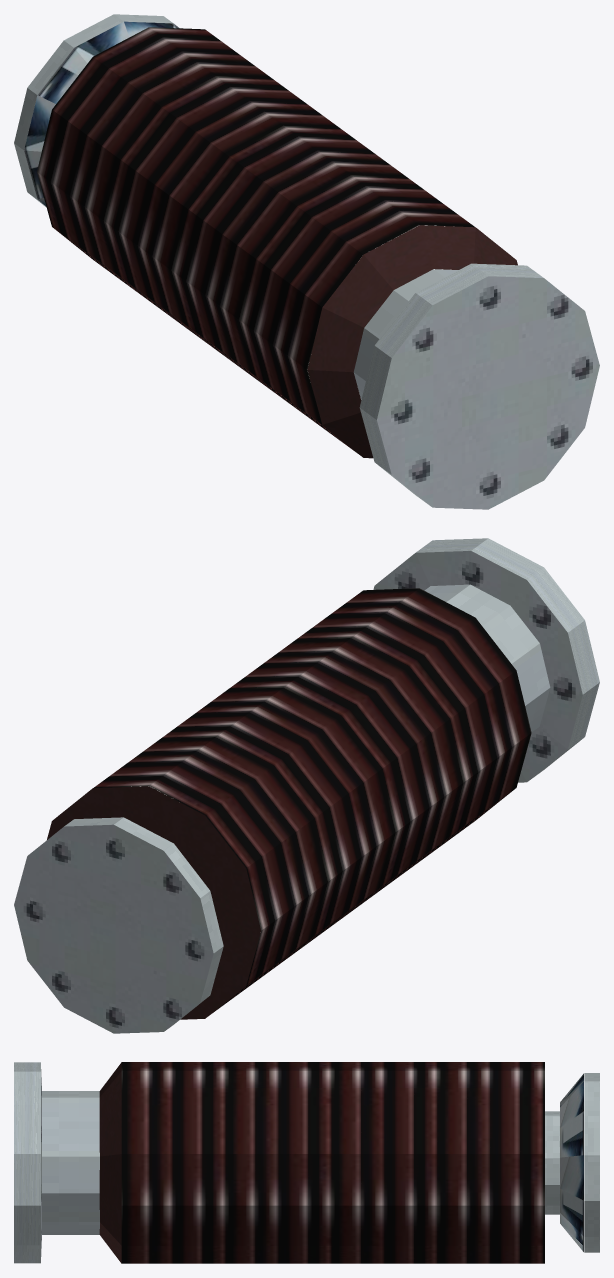
The model's file is jyzz054-geode.glb.
3 renders of one model, top to bottom at view 1: azimuth 30°, elevation 25°; view 2: azimuth 150°, elevation 25°; view 3: azimuth 270°, elevation 25°, orthographic. The views are drawn at different scales.
Parts seen in each view (by area): view 1: Node; view 2: Node; view 3: Node.
Part boxes in pixels (box(x1,y1,x2,y2)): Node: box(14, 14, 599, 509); Node: box(14, 538, 599, 1033); Node: box(14, 1062, 599, 1263).
Size of the model in its own units: 0.167 by 0.167 by 0.4832.
5 materials, 5 textured.
